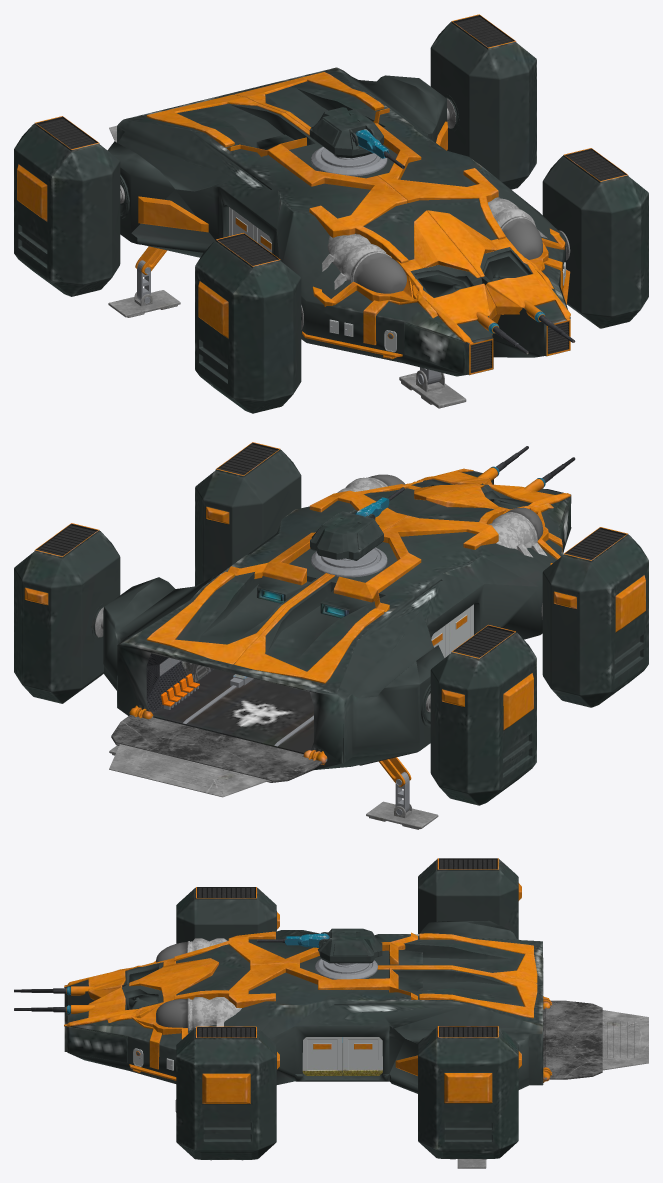
The picture shows the model from 3 angles, top to bottom: view 1: azimuth 30°, elevation 25°; view 2: azimuth 150°, elevation 25°; view 3: azimuth 270°, elevation 25°; orthographic projection. The views are drawn at different scales.
Parts seen in each view (by area): view 1: Cube_mainhull_0, Cube.002_armor_0, Cube.006_ventscover_0, Cube.003_steeldirty_0, Cylinder.001_glass_0, Cylinder_cockpit_0, Cube.006_steel_0, Cube.014_door_0, Cube.001_vents_0, Cube.019_pregun_0; view 2: Cube_mainhull_0, Cube.002_armor_0, Cube.017_ramp_0, Cube.003_steeldirty_0, Cube.006_ventscover_0, Cube.006_steel_0, Cylinder_cockpit_0, Cube.004_walls_0, Cube.014_door_0, Cylinder.001_glass_0, Cube.071_hair_0; view 3: Cube_mainhull_0, Cube.002_armor_0, Cube.017_ramp_0, Cube.014_door_0, Cube.003_steeldirty_0, Cube.006_ventscover_0, Cylinder_cockpit_0, Cube.001_vents_0, Cylinder.001_glass_0, Cube.006_steel_0, Cube.026_gunsteel_0, Cube.019_pregun_0.
Part boxes in pixels (x1,y1,x2,y2): Cube_mainhull_0: [14, 21, 648, 413]; Cube.002_armor_0: [17, 14, 627, 374]; Cube.006_ventscover_0: [38, 17, 625, 371]; Cube.003_steeldirty_0: [108, 98, 570, 408]; Cylinder.001_glass_0: [353, 218, 542, 338]; Cylinder_cockpit_0: [322, 197, 547, 289]; Cube.006_steel_0: [137, 147, 441, 384]; Cube.014_door_0: [229, 207, 566, 352]; Cube.001_vents_0: [36, 15, 626, 372]; Cube.019_pregun_0: [355, 129, 545, 333]; Cube_mainhull_0: [14, 449, 648, 805]; Cube.002_armor_0: [24, 442, 645, 786]; Cube.017_ramp_0: [111, 715, 321, 782]; Cube.003_steeldirty_0: [95, 603, 542, 829]; Cube.006_ventscover_0: [37, 444, 624, 657]; Cube.006_steel_0: [152, 547, 409, 815]; Cylinder_cockpit_0: [337, 477, 546, 557]; Cube.004_walls_0: [146, 653, 214, 713]; Cube.014_door_0: [431, 604, 473, 657]; Cylinder.001_glass_0: [368, 474, 543, 539]; Cube.071_hair_0: [160, 673, 199, 706]; Cube_mainhull_0: [64, 858, 543, 1159]; Cube.002_armor_0: [14, 858, 551, 1103]; Cube.017_ramp_0: [543, 1000, 602, 1079]; Cube.014_door_0: [133, 1037, 382, 1075]; Cube.003_steeldirty_0: [175, 1010, 648, 1168]; Cube.006_ventscover_0: [198, 859, 496, 1037]; Cylinder_cockpit_0: [187, 938, 241, 1030]; Cube.001_vents_0: [197, 858, 497, 1037]; Cylinder.001_glass_0: [136, 942, 187, 1055]; Cube.006_steel_0: [139, 958, 546, 1079]; Cube.026_gunsteel_0: [14, 938, 285, 1012]; Cube.019_pregun_0: [67, 933, 342, 1042].
Size of the model in its own units: 82.72 by 33.98 by 112.
20 materials, 17 textured.
